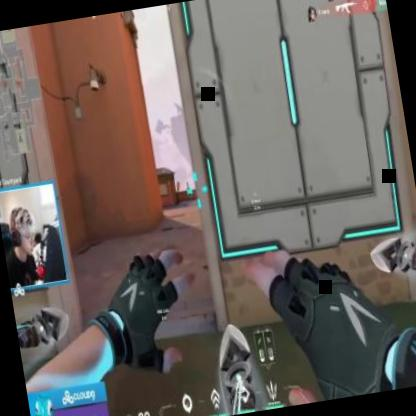enemy: (185, 180, 192, 202)
enemy_head: (186, 180, 188, 186)
